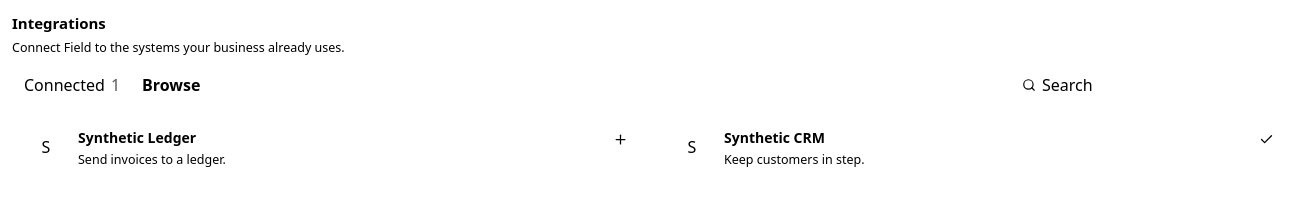
Test: Integrations catalogue › the Connected tab shows only connected integrations; Browse shows them all
Click the tab "Connected 1" at (72, 85), box [14,71,130,99]
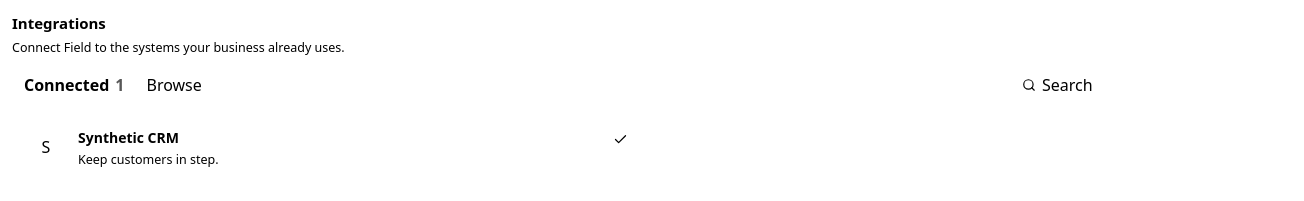
Expected: the text "Synthetic CRM" is shown, [78,128,179,147]
Result: the number of list items is 1 at [12,113,646,184]
Click the tab "Browse" at (174, 85), box [136,71,212,99]
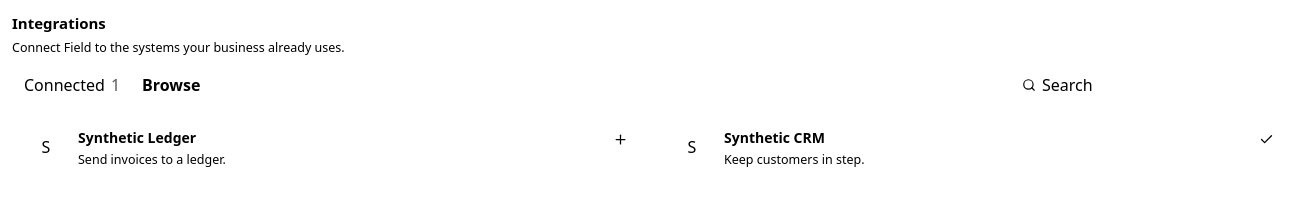
Result: the number of list items is 2 at [12,113,646,184]; [658,113,1292,184]
